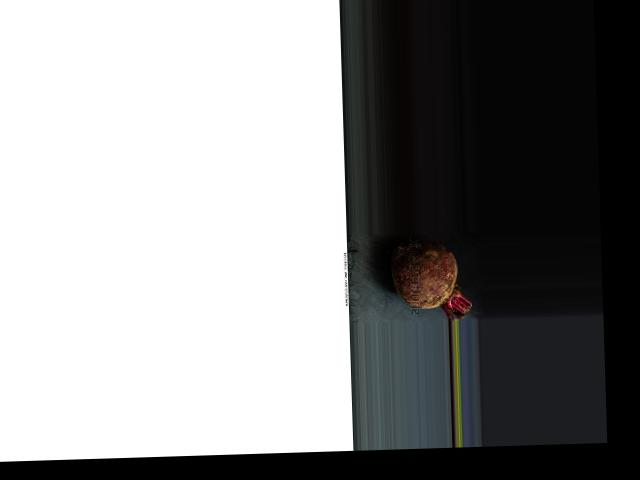beet: (390, 239, 471, 321)
